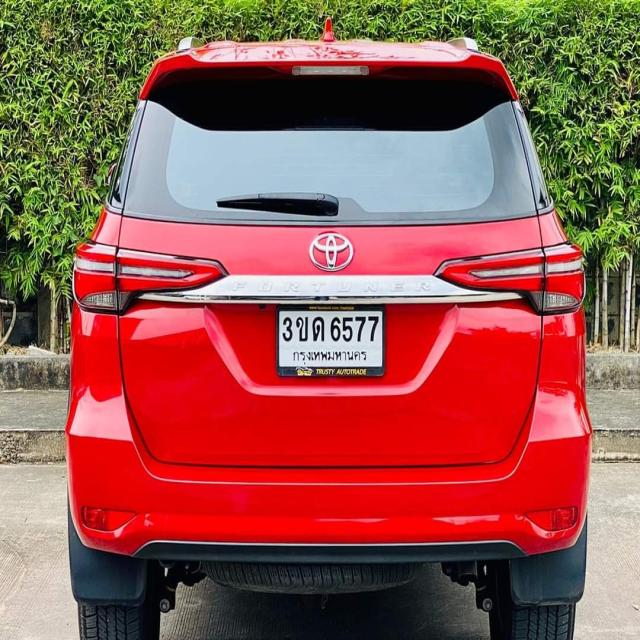license_plate: (276, 305, 386, 378)
